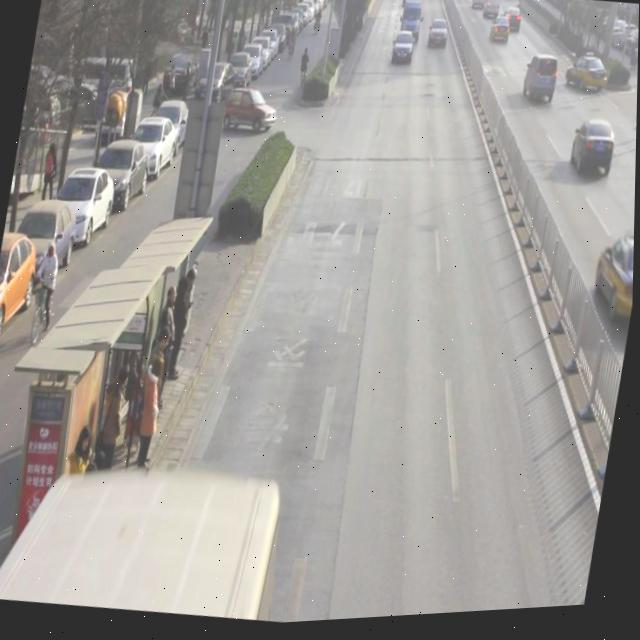bus: (396, 2, 427, 51)
car: (591, 227, 636, 332), (220, 86, 283, 144), (569, 124, 620, 192), (563, 55, 612, 106), (521, 59, 562, 119), (390, 36, 416, 75), (426, 23, 451, 58), (489, 19, 513, 55), (503, 13, 524, 42), (483, 1, 502, 30), (470, 0, 488, 18), (402, 0, 418, 16), (518, 0, 534, 14), (483, 0, 496, 8)
van: (0, 440, 291, 637)
